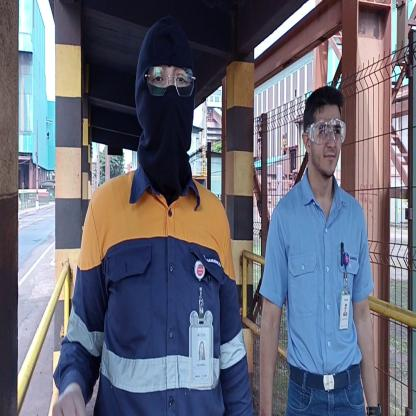Balaclava: (134, 15, 196, 184)
Operacional: (60, 177, 252, 415)
